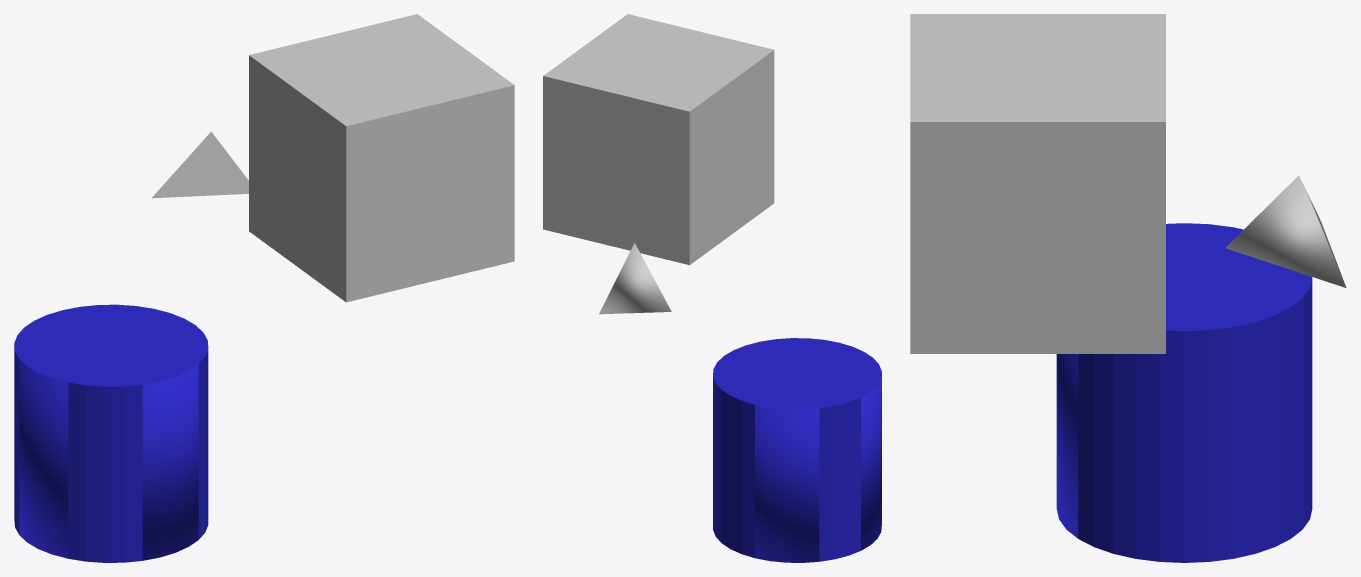
File: simple.obj
3 views of the same model, side by side, from view 1: azimuth 30°, elevation 25°; view 2: azimuth 150°, elevation 25°; view 3: azimuth 270°, elevation 25° (orthographic). The views are drawn at different scales.
Parts seen in each view (by area): view 1: Cube, Cylinder, Cone; view 2: Cube, Cylinder, Cone; view 3: Cube, Cylinder, Cone.
Boxes of the visible parts, x1,y1,x2,y2 form: Cube: [249, 14, 514, 302]; Cylinder: [14, 304, 208, 562]; Cone: [151, 131, 248, 198]; Cube: [543, 14, 774, 265]; Cylinder: [713, 338, 881, 562]; Cone: [599, 243, 671, 314]; Cube: [910, 14, 1165, 353]; Cylinder: [1056, 223, 1312, 562]; Cone: [1225, 175, 1346, 287].
Bounding box in the file's own units: 4.55 × 4.99 × 3.41.
